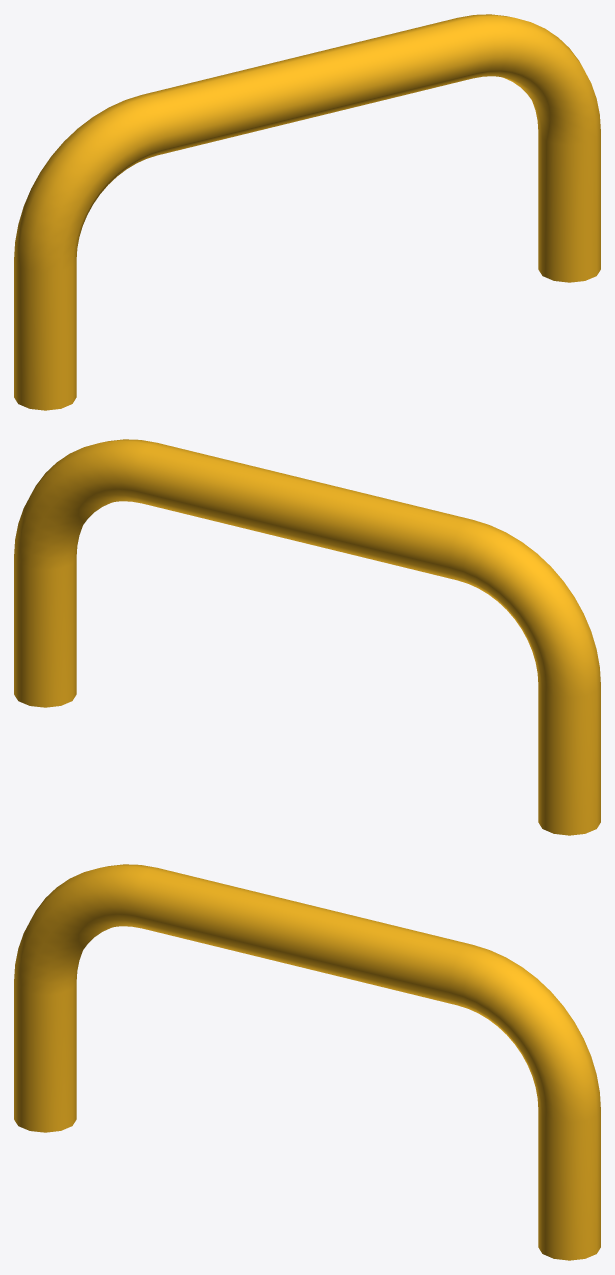
File: gateSmallWide_teamYellow.glb
3 renders of one model, top to bottom at view 1: azimuth 30°, elevation 25°; view 2: azimuth 150°, elevation 25°; view 3: azimuth 330°, elevation 25°, orthographic.
Parts seen in each view (by area): view 1: gateSmallWide_teamYellow; view 2: gateSmallWide_teamYellow; view 3: gateSmallWide_teamYellow.
Boxes of the visible parts, <box> form: gateSmallWide_teamYellow: <box>14,14,600,410</box>; gateSmallWide_teamYellow: <box>14,439,600,835</box>; gateSmallWide_teamYellow: <box>14,864,600,1260</box>.
Bounding box in the file's own units: 1.63 × 0.74 × 0.1527.
